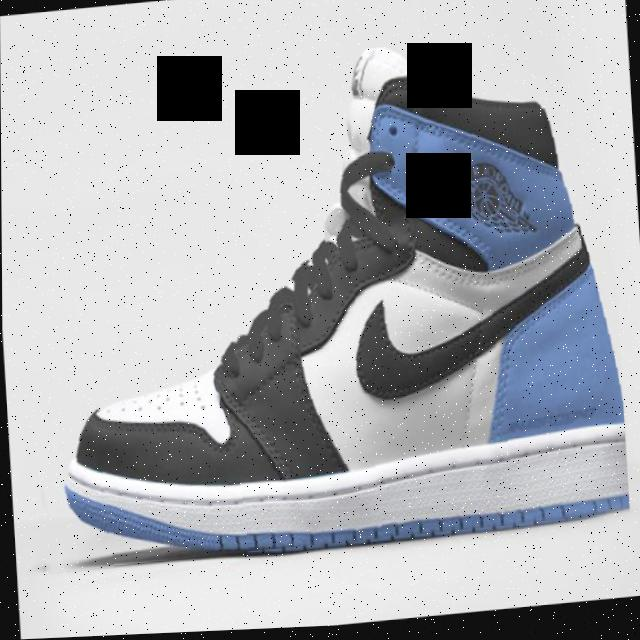shoe: (0, 30, 629, 576)
